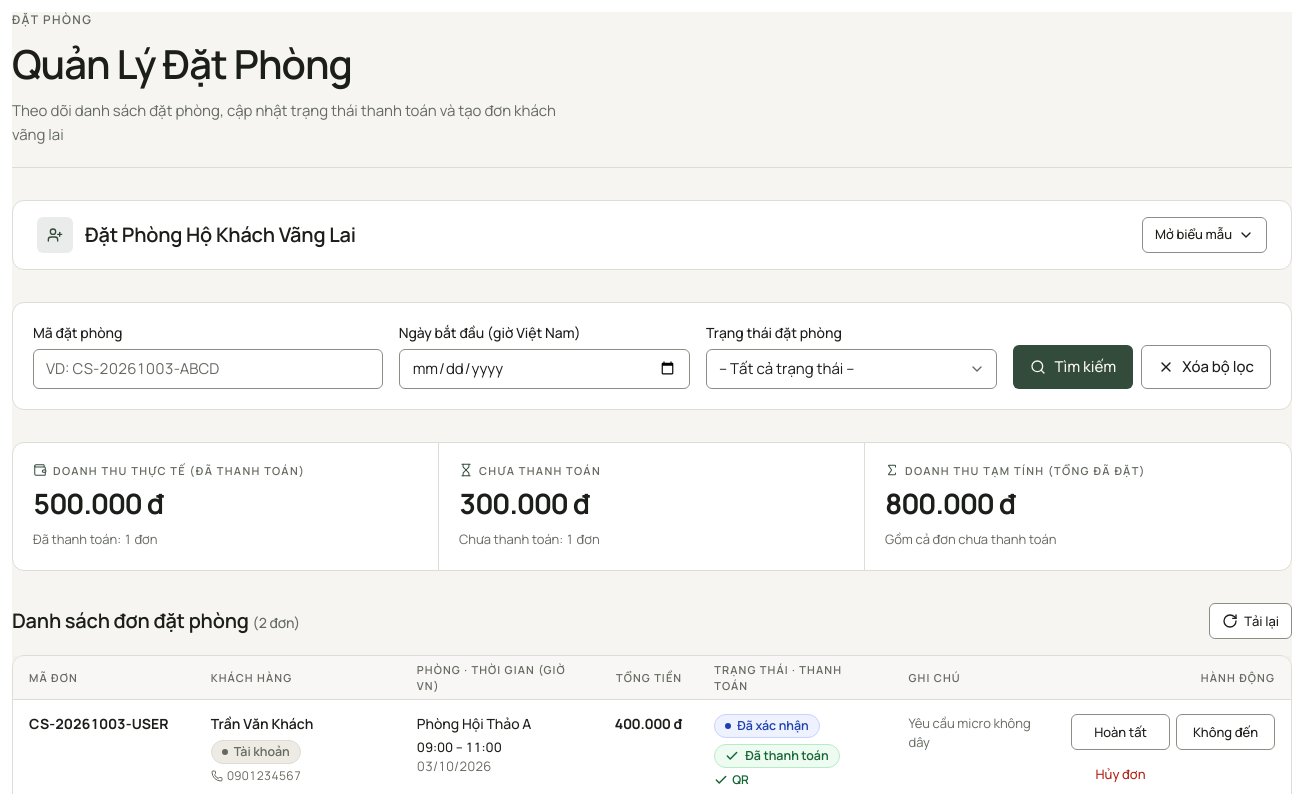
AdminBookingsPage - Booking Management & Search › Revenue KPI Summary and State Transition Actions (Complete / No-Show) › displays error message when completing booking fails
The image size is (1304, 794).
What coordinates should you click on to do the following:
click the button with test id "complete-booking-btn-booking-1"
I would click on:
 (1120, 732)
Its box is [1071,714,1170,750].
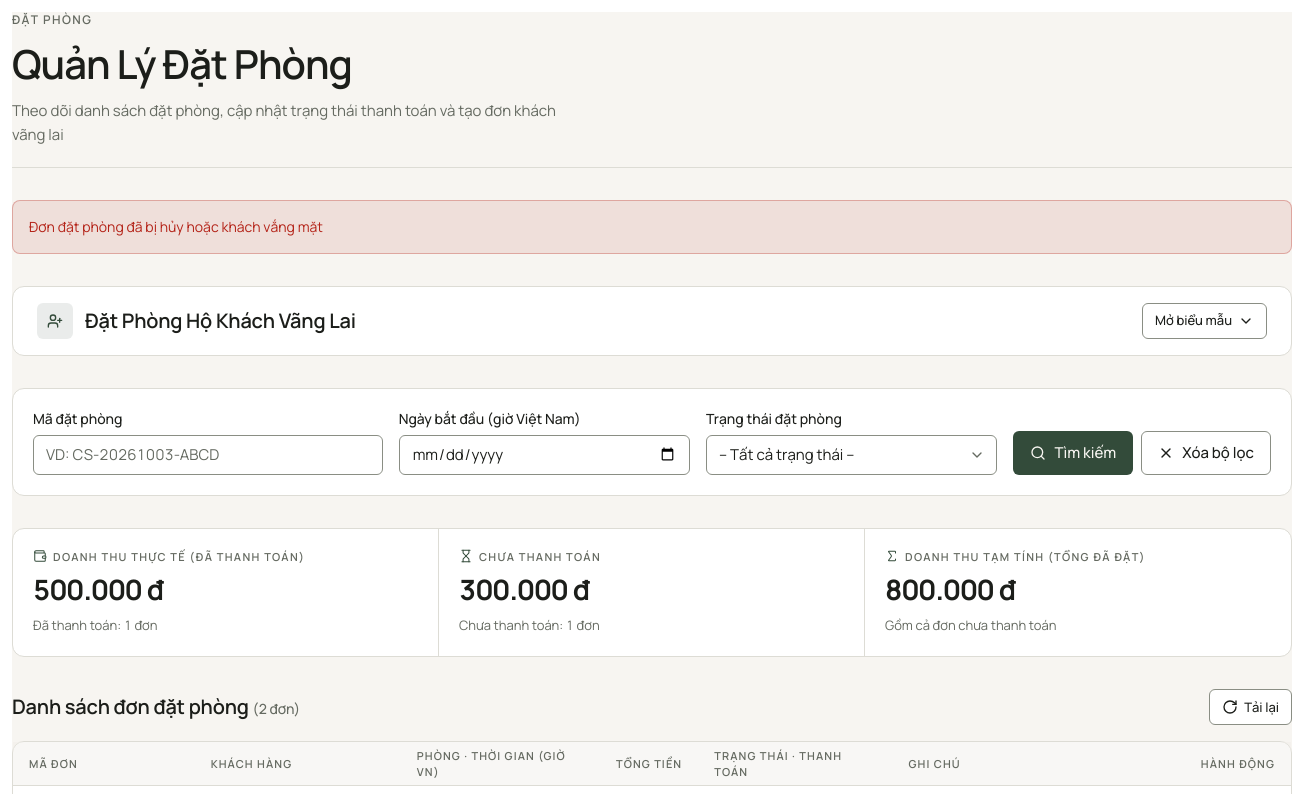
Result: the text "Đơn đặt phòng đã bị hủy hoặc khách vắng mặt" is shown at [12,200,1292,254]
